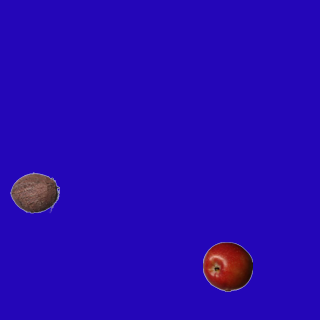Apple Braeburn: (202, 241, 252, 291)
Cocos: (9, 167, 59, 217)
